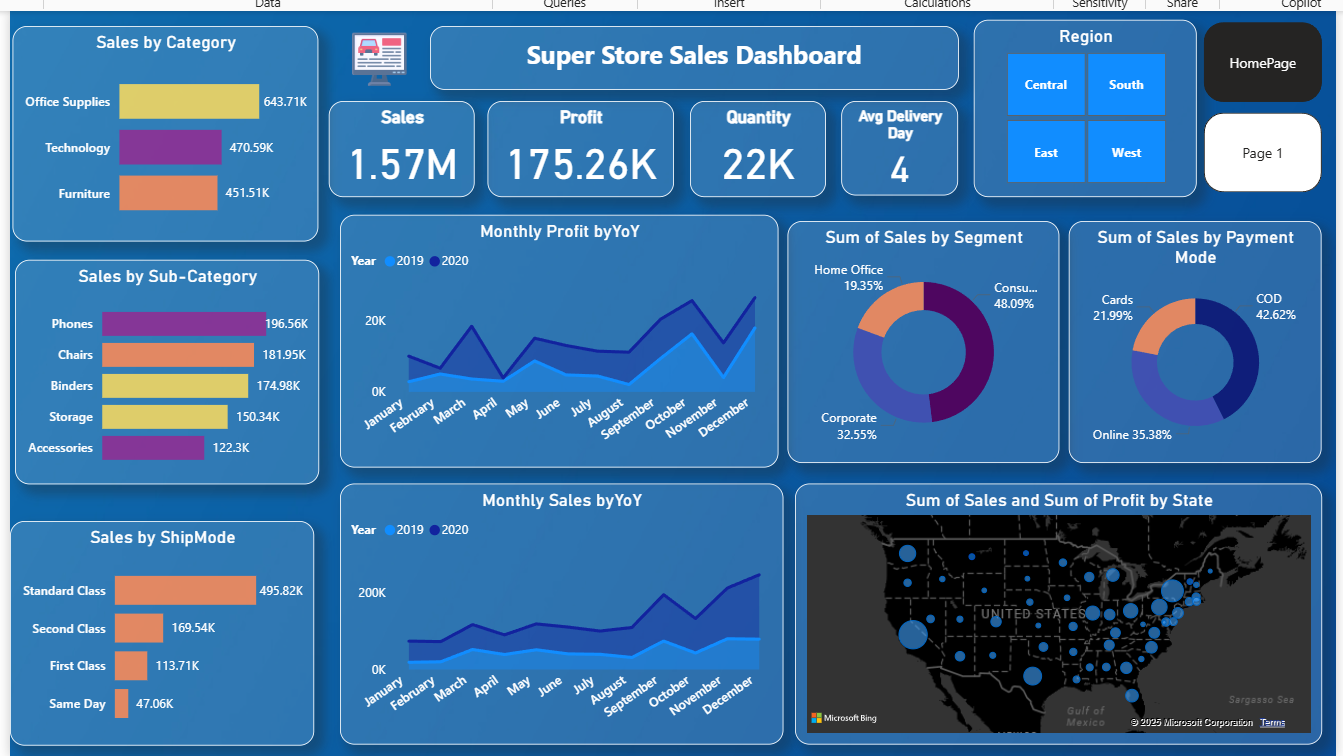

This screenshot's page, from the dashboard's own definition file:
{"tool":"powerbi","page":{"name":"HomePage","canvas":[1280,720],"ordinal":0},"visuals":[{"type":"barChart","title":"Sales by Category","fields":{"Category":["Sheet1 (2).Category"],"Y":["Sum(Sheet1 (2).Sales)"]},"box":[2.9,14.3,295.1,208.2],"z":0},{"type":"barChart","title":"Sales by Sub-Category","fields":{"Category":["Sheet1 (2).Sub-Category"],"Y":["Sum(Sheet1 (2).Sales)"]},"box":[4.3,239.5,293.7,216.7],"z":1000},{"type":"barChart","title":"Sales by ShipMode","fields":{"Y":["Sum(Sheet1 (2).Sales)"],"Category":["Sheet1 (2).Ship Mode"]},"box":[0,491.9,293.7,216.7],"z":2000},{"type":"stackedAreaChart","title":"Monthly Sales byYoY","fields":{"Y":["Sum(Sheet1 (2).Sales)"],"Category":["Sheet1 (2).Order Date.Variation.Date Hierarchy.Month","Sheet1 (2).Order Date.Variation.Date Hierarchy.Day"],"Series":["Sheet1 (2).Order Date.Variation.Date Hierarchy.Year"]},"box":[317.9,456.2,427.7,252.4],"z":3000},{"type":"stackedAreaChart","title":"Monthly Profit byYoY","fields":{"Y":["Sum(Sheet1 (2).Profit)"],"Category":["Sheet1 (2).Order Date.Variation.Date Hierarchy.Month","Sheet1 (2).Order Date.Variation.Date Hierarchy.Day"],"Series":["Sheet1 (2).Order Date.Variation.Date Hierarchy.Year"]},"box":[317.9,196.7,423.4,243.8],"z":4000},{"type":"map","fields":{"Category":["Sheet1 (2).State"],"Size":["Sum(Sheet1 (2).Sales)"]},"box":[757.1,456.2,509,252.4],"z":5000},{"type":"donutChart","fields":{"Category":["Sheet1 (2).Segment"],"Y":["Sum(Sheet1 (2).Sales)"]},"box":[749.9,202.5,262.3,233.8],"z":6000},{"type":"donutChart","fields":{"Y":["Sum(Sheet1 (2).Sales)"],"Category":["Sheet1 (2).Payment Mode"]},"box":[1022.2,202.5,243.8,233.8],"z":7000},{"type":"slicer","title":"Region","fields":{"Values":["Sheet1 (2).Region"]},"box":[929.6,8.6,215.3,171.1],"z":8000},{"type":"textbox","box":[404.9,14.3,510.4,61.3],"z":9000},{"type":"image","box":[308,14.3,96.9,64.2],"z":10000},{"type":"card","title":"Sales","fields":{"Values":["Sum(Sheet1 (2).Sales)"]},"box":[308,87,141.1,92.7],"z":11000},{"type":"card","title":"Profit","fields":{"Values":["Sum(Sheet1 (2).Profit)"]},"box":[460.5,87,179.6,92.7],"z":12000},{"type":"card","title":"Quantity","fields":{"Values":["Sum(Sheet1 (2).Quantity)"]},"box":[655.8,87,131.2,92.7],"z":13000},{"type":"card","title":"Avg Delivery Day","fields":{"Values":["sales.AvgDeliveryDay"]},"box":[802.7,87,112.6,91.2],"z":14000},{"type":"pageNavigator","box":[1152,11.4,114.1,165.4],"z":15000}]}

Visuals, with their boxes on the page's 1280x720 design canvas (x1, y1, x2, y2). These are canvas units, not pixel positions in the 1343x756 screenshot, which may show the page scaled, cropped or inside an application window:
"Sales by Category" barChart: (x1=3, y1=14, x2=298, y2=222)
"Sales by Sub-Category" barChart: (x1=4, y1=240, x2=298, y2=456)
"Sales by ShipMode" barChart: (x1=0, y1=492, x2=294, y2=709)
"Monthly Sales byYoY" stackedAreaChart: (x1=318, y1=456, x2=746, y2=709)
"Monthly Profit byYoY" stackedAreaChart: (x1=318, y1=197, x2=741, y2=440)
map - Sheet1 (2).State x Sum(Sheet1 (2).Sales): (x1=757, y1=456, x2=1266, y2=709)
donutChart - Sheet1 (2).Segment x Sum(Sheet1 (2).Sales): (x1=750, y1=202, x2=1012, y2=436)
donutChart - Sum(Sheet1 (2).Sales) x Sheet1 (2).Payment Mode: (x1=1022, y1=202, x2=1266, y2=436)
"Region" slicer: (x1=930, y1=9, x2=1145, y2=180)
textbox: (x1=405, y1=14, x2=915, y2=76)
image: (x1=308, y1=14, x2=405, y2=78)
"Sales" card: (x1=308, y1=87, x2=449, y2=180)
"Profit" card: (x1=460, y1=87, x2=640, y2=180)
"Quantity" card: (x1=656, y1=87, x2=787, y2=180)
"Avg Delivery Day" card: (x1=803, y1=87, x2=915, y2=178)
pageNavigator: (x1=1152, y1=11, x2=1266, y2=177)
